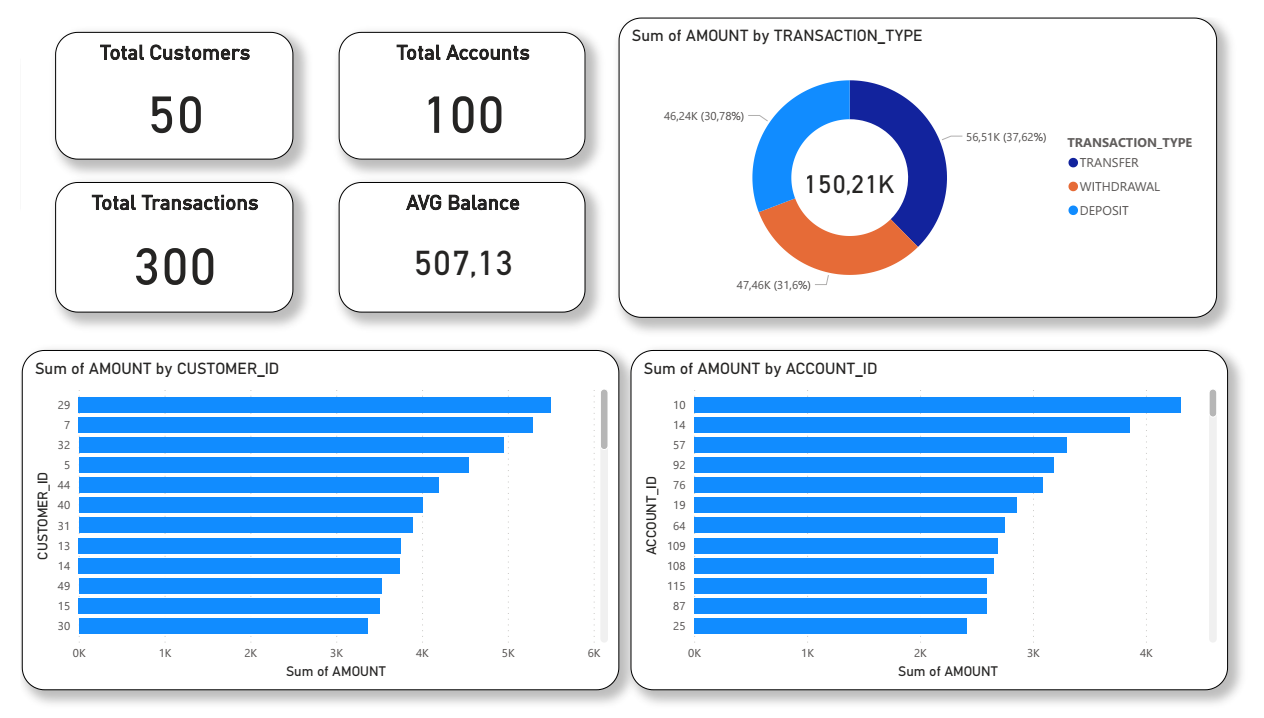

This screenshot's page, from the dashboard's own definition file:
{"tool":"powerbi","page":{"name":"Page 1","canvas":[1280,720],"ordinal":0},"visuals":[{"type":"card","title":"Total Customers","fields":{"Values":["Count(DIM_CUSTOMERS.CUSTOMER_ID)"]},"box":[36.2,14.5,249.6,133.9],"z":0},{"type":"card","title":"Total Accounts","fields":{"Values":["Count(DIM_ACCOUNTS.ACCOUNT_ID)"]},"box":[334.1,14.5,259.3,133.9],"z":1000},{"type":"card","title":"Total Transactions","fields":{"Values":["Count(FACT_TRANSACTIONS.TRANSACTION_ID)"]},"box":[36.2,172.5,249.6,137.5],"z":2000},{"type":"card","title":"AVG Balance","fields":{"Values":["Avg(DIM_ACCOUNTS.BALANCE)"]},"box":[334.1,172.5,259.3,137.5],"z":3000},{"type":"clusteredBarChart","fields":{"Category":["FACT_TRANSACTIONS.CUSTOMER_ID"],"Y":["Sum(FACT_TRANSACTIONS.AMOUNT)"]},"box":[1.2,348.5,627.1,357],"z":4000},{"type":"donutChart","fields":{"Category":["FACT_TRANSACTIONS.TRANSACTION_TYPE"],"Y":["Sum(FACT_TRANSACTIONS.AMOUNT)"]},"box":[628,0,628,315],"z":5000},{"type":"clusteredBarChart","fields":{"Category":["FACT_TRANSACTIONS.ACCOUNT_ID"],"Y":["Sum(FACT_TRANSACTIONS.AMOUNT)"]},"box":[640.4,348.5,627.1,357],"z":6000},{"type":"card","fields":{"Values":["Sum(FACT_TRANSACTIONS.AMOUNT)"]},"box":[796.2,112.5,146.2,121.2],"z":7000}]}

Visuals, with their boxes in screenshot pixels (x1, y1, x2, y2), scaled from the page's 1280x720 canvas onto the 1264x718 screenshot:
"Total Customers" card: left=36, top=14, right=282, bottom=148
"Total Accounts" card: left=330, top=14, right=586, bottom=148
"Total Transactions" card: left=36, top=172, right=282, bottom=309
"AVG Balance" card: left=330, top=172, right=586, bottom=309
clusteredBarChart - FACT_TRANSACTIONS.CUSTOMER_ID x Sum(FACT_TRANSACTIONS.AMOUNT): left=1, top=348, right=620, bottom=704
donutChart - FACT_TRANSACTIONS.TRANSACTION_TYPE x Sum(FACT_TRANSACTIONS.AMOUNT): left=620, top=0, right=1240, bottom=314
clusteredBarChart - FACT_TRANSACTIONS.ACCOUNT_ID x Sum(FACT_TRANSACTIONS.AMOUNT): left=632, top=348, right=1252, bottom=704
card - Sum(FACT_TRANSACTIONS.AMOUNT): left=786, top=112, right=931, bottom=233
